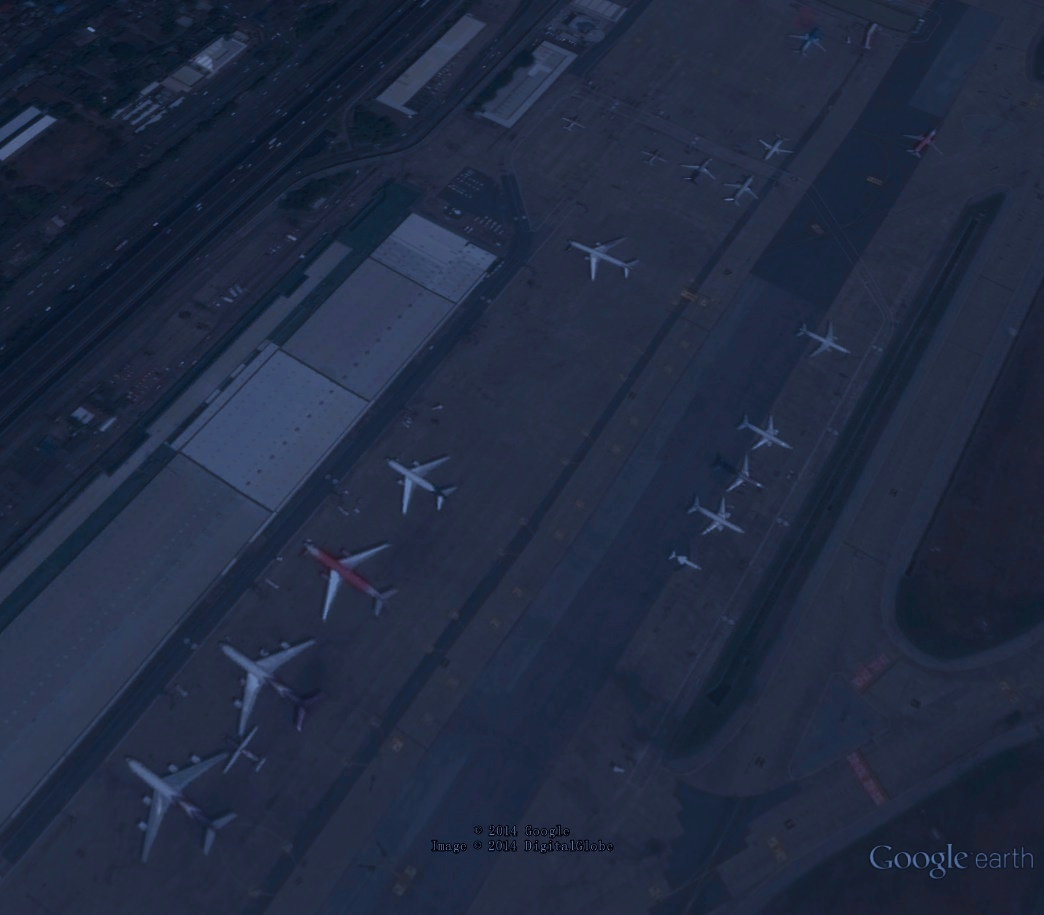aircraft: (123, 748, 250, 868), (216, 634, 333, 741), (301, 535, 405, 627), (382, 450, 465, 517), (564, 232, 643, 286), (216, 723, 274, 778), (732, 408, 796, 456), (684, 492, 747, 540), (709, 450, 771, 498), (793, 316, 855, 361), (786, 22, 834, 64), (900, 124, 951, 163), (720, 171, 765, 211), (754, 130, 799, 166), (679, 156, 721, 190), (664, 547, 706, 573), (639, 145, 670, 169), (559, 112, 586, 135)
